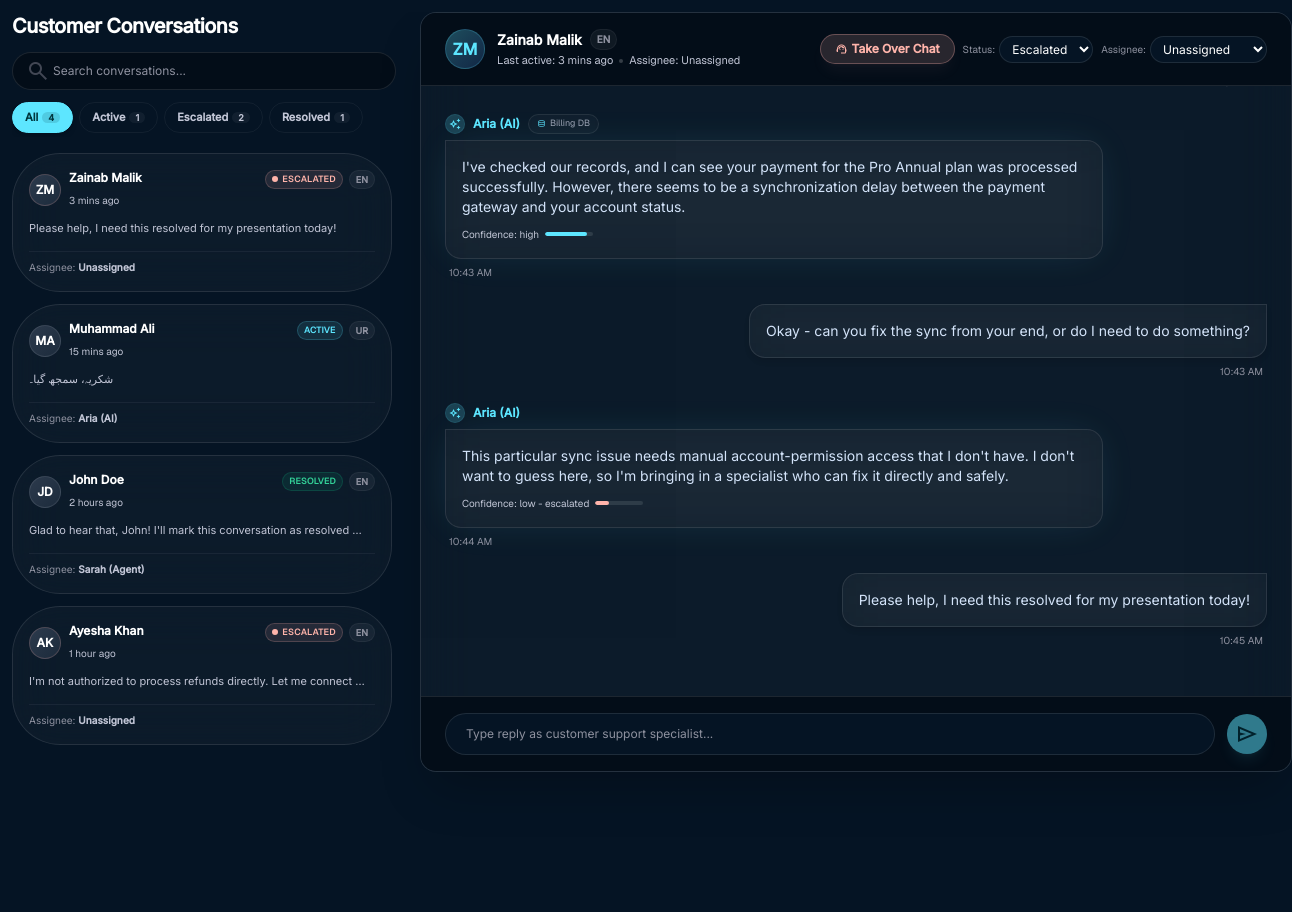
Scenario: ConversationDashboardPage Component › filters conversations by status pills
(page scrolled)
Expected: the heading "Zainab Malik" below "Customer Conversations" is shown, [69,170,142,186]
Expected: the heading "John Doe" is shown, [69,472,124,488]
# Click 'Escalated' pill
Click the button "Escalated2".
click(214, 117)  # box [164,102,263,132]
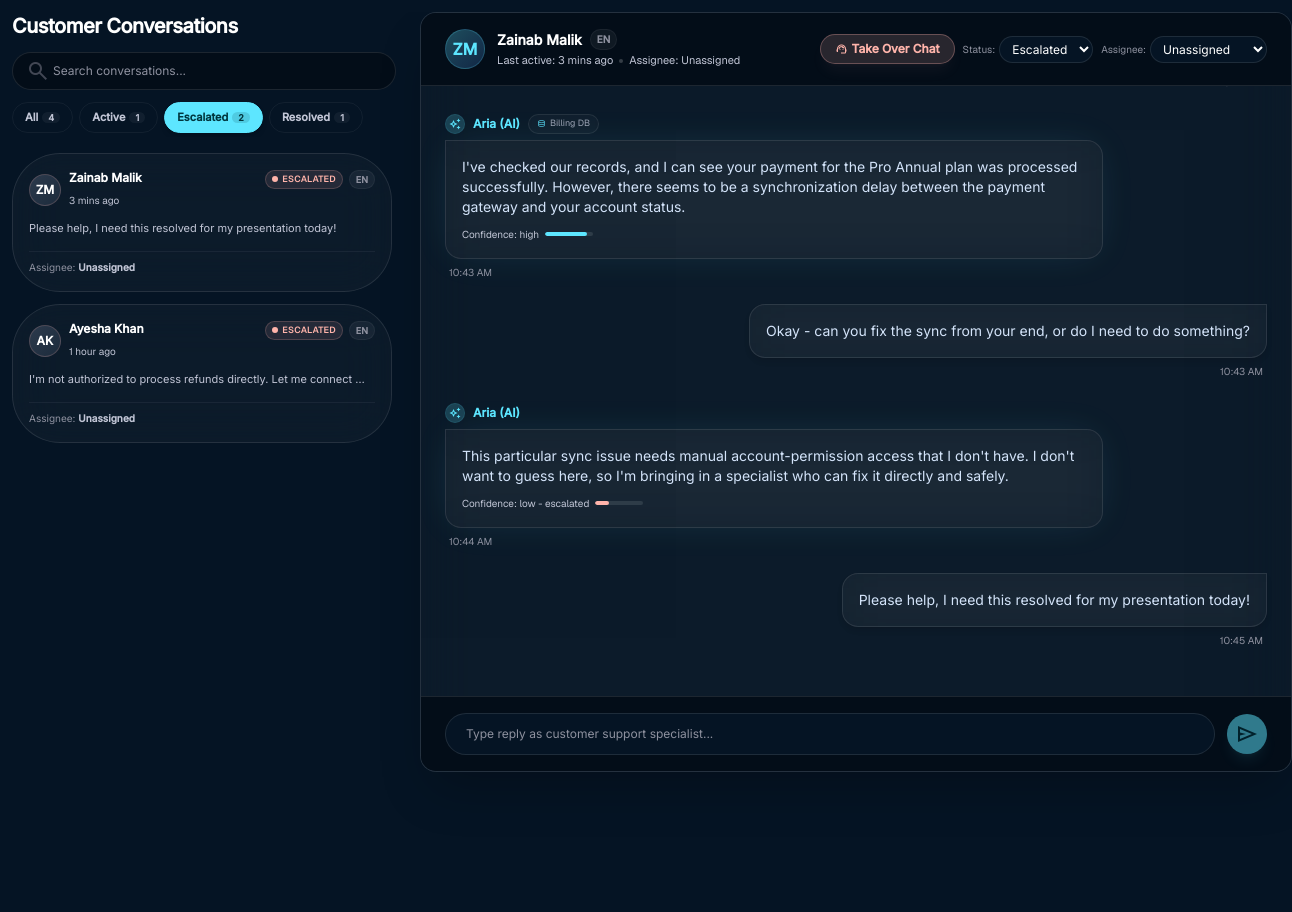
Expected: the heading "Zainab Malik" below "Customer Conversations" is shown, [69,170,142,186]
Now the heading "John Doe" is gone
# Click 'Resolved' pill
Click the button "Resolved1".
click(316, 117)  # box [269,102,363,132]
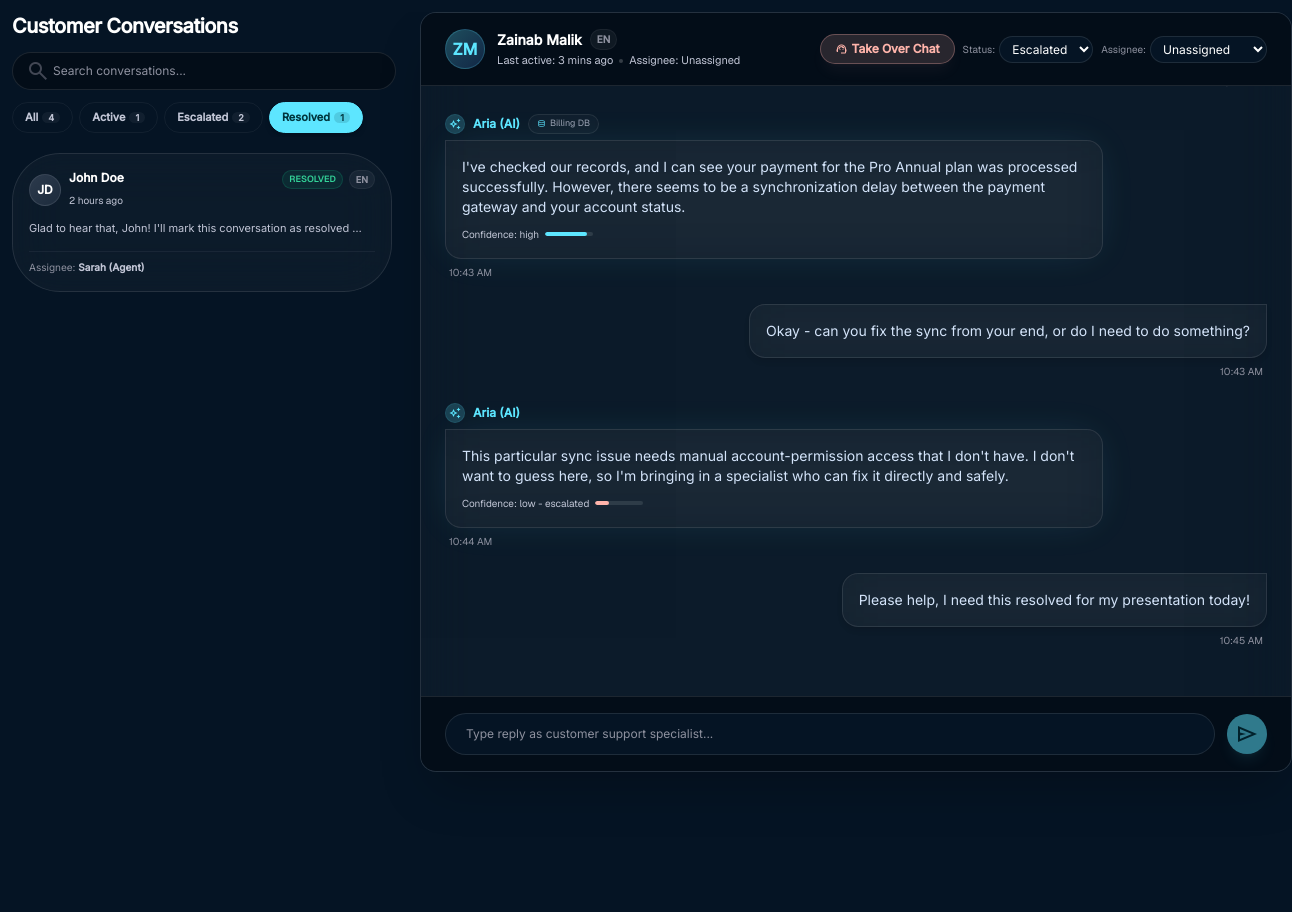
Now the heading "John Doe" is shown, box [69,170,124,186]
